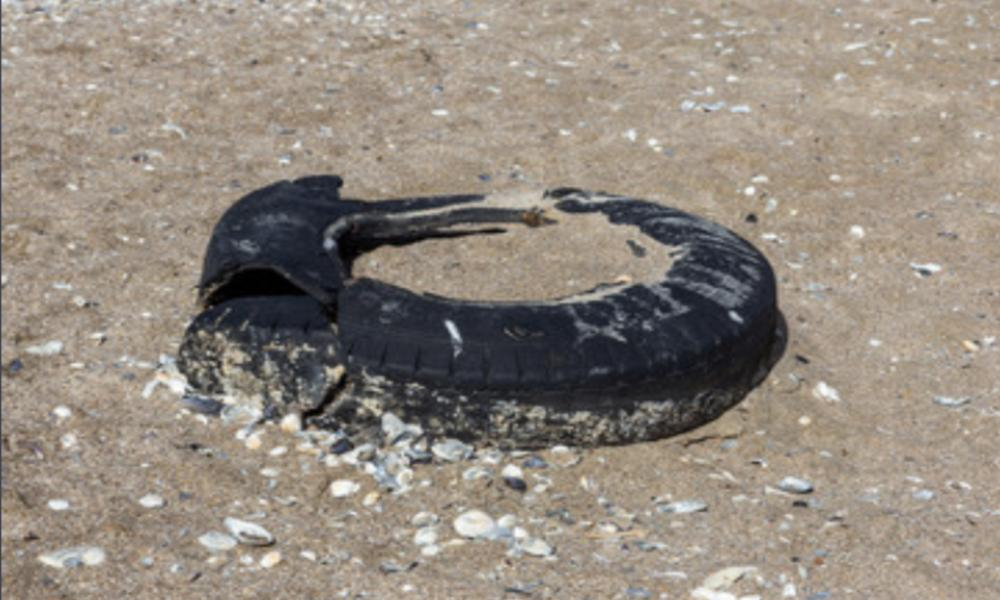tire: (191, 171, 798, 477)
